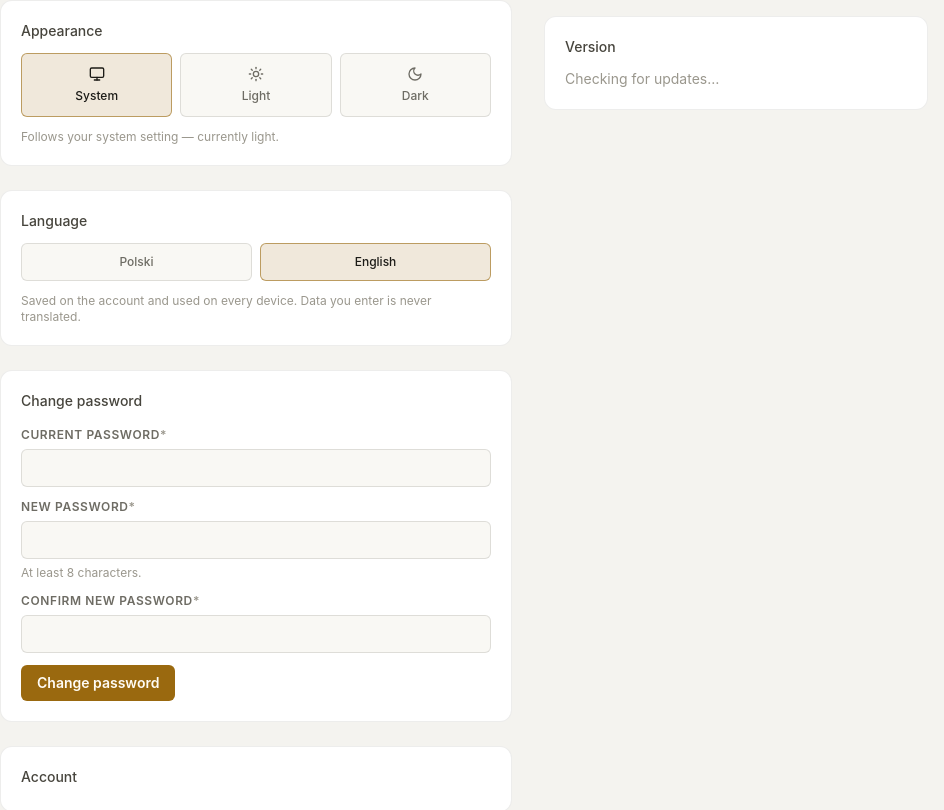
it: SettingsView language switcher › validates the password form in the active language
The width and height of the screenshot is (944, 810).
Step 1. Click the radio button labelled "Polski" → (136, 262), box [21,243,252,281]
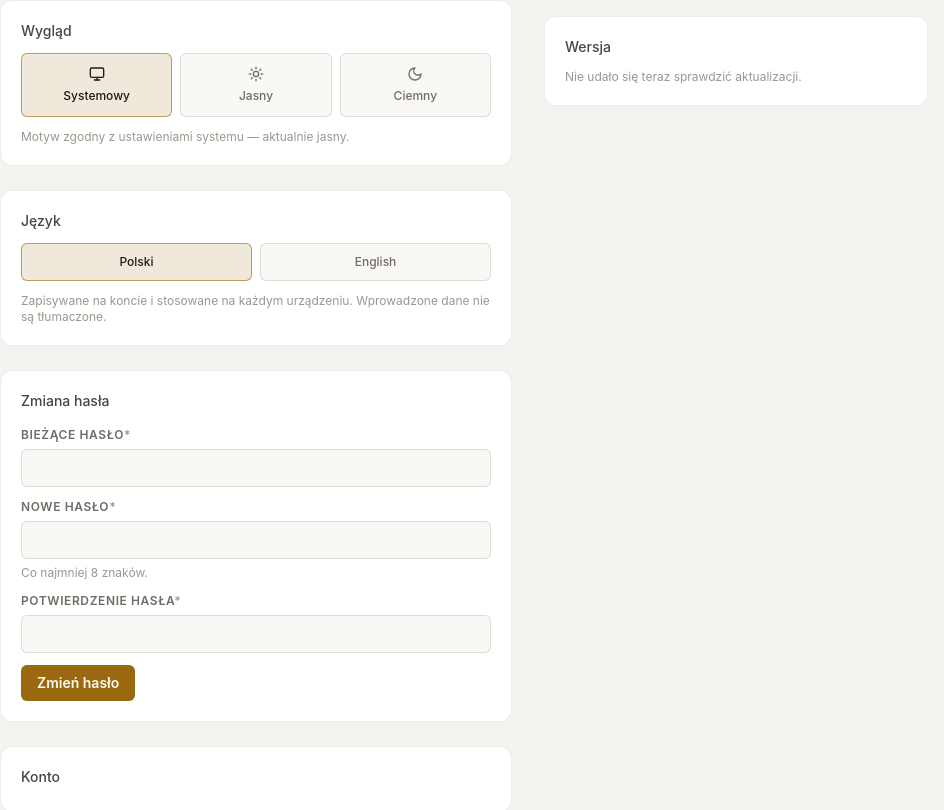
Step 2. Submit the form, box [21,427,491,701]
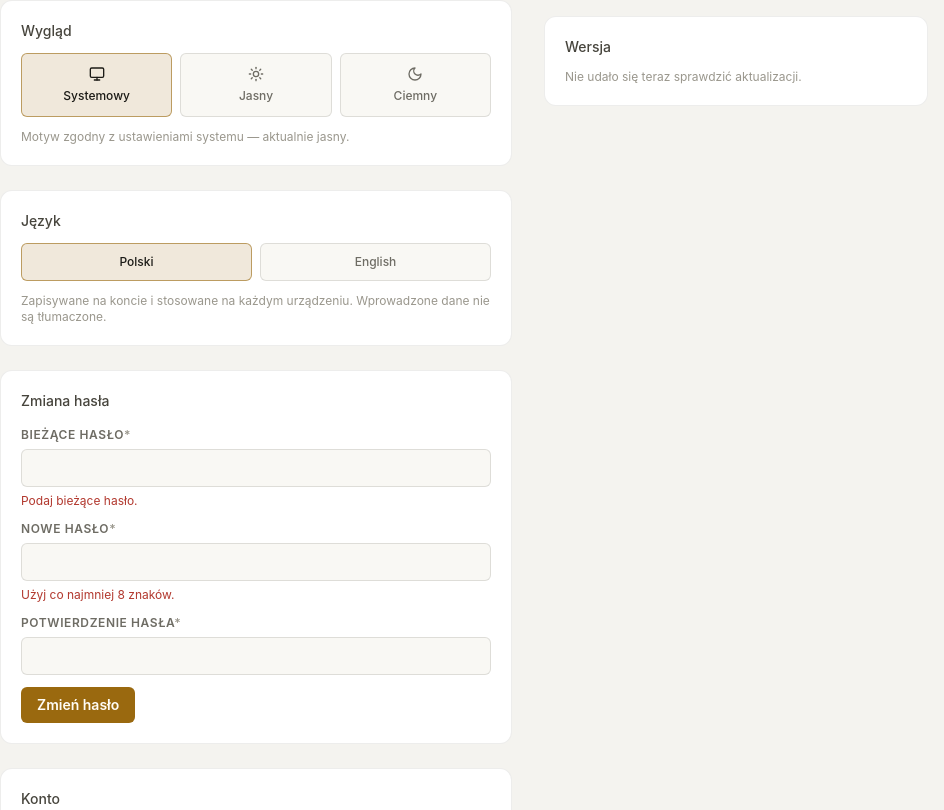
Expected: the text "Podaj bieżące hasło." is shown, [21,493,138,508]
